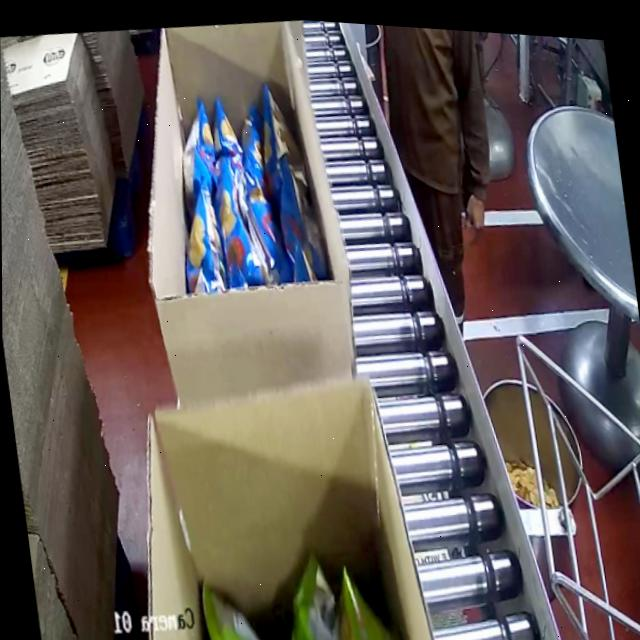PAPRIKA: (159, 68, 321, 302)
